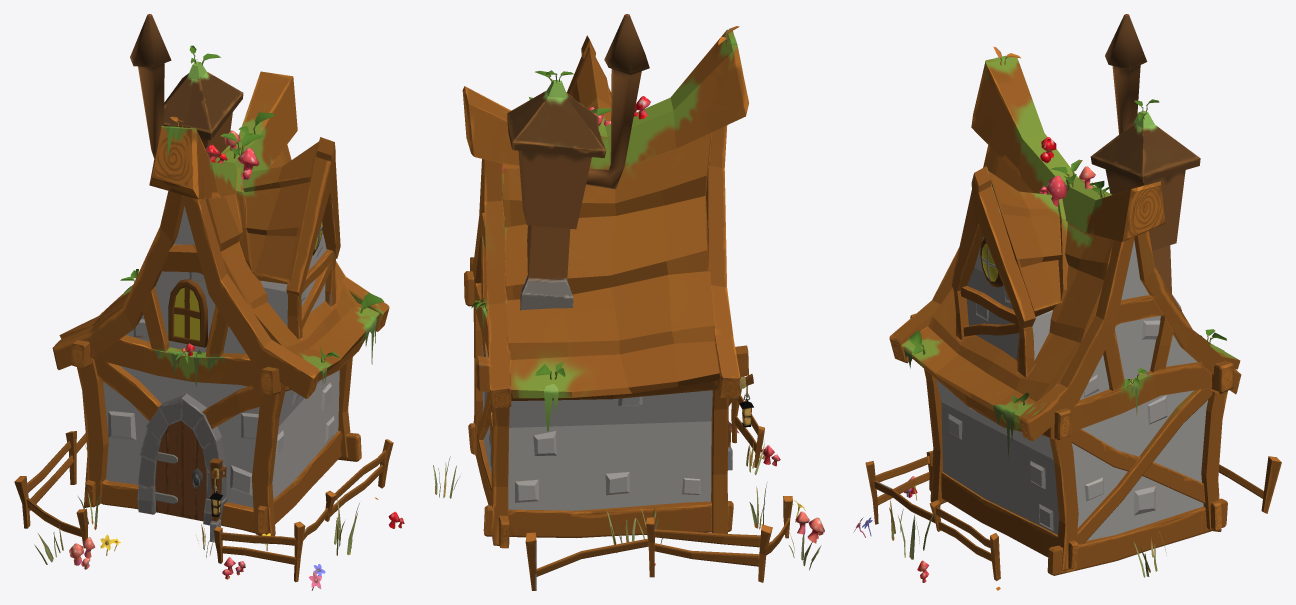
Rendered from Town_Cottage_1.glb.
The picture shows the model from 3 angles, left to right: view 1: azimuth 30°, elevation 25°; view 2: azimuth 150°, elevation 25°; view 3: azimuth 270°, elevation 25°; orthographic projection. The views are drawn at different scales.
Visible parts, largest first — view 1: Object_4; view 2: Object_4; view 3: Object_4.
Part boxes in pixels (box(x1,y1,x2,y2)): Object_4: box(14, 14, 404, 590); Object_4: box(433, 14, 824, 590); Object_4: box(853, 14, 1281, 590).
Size of the model in its own units: 56.48 by 79.42 by 60.74.
Materials: 1 (1 with a texture image).
